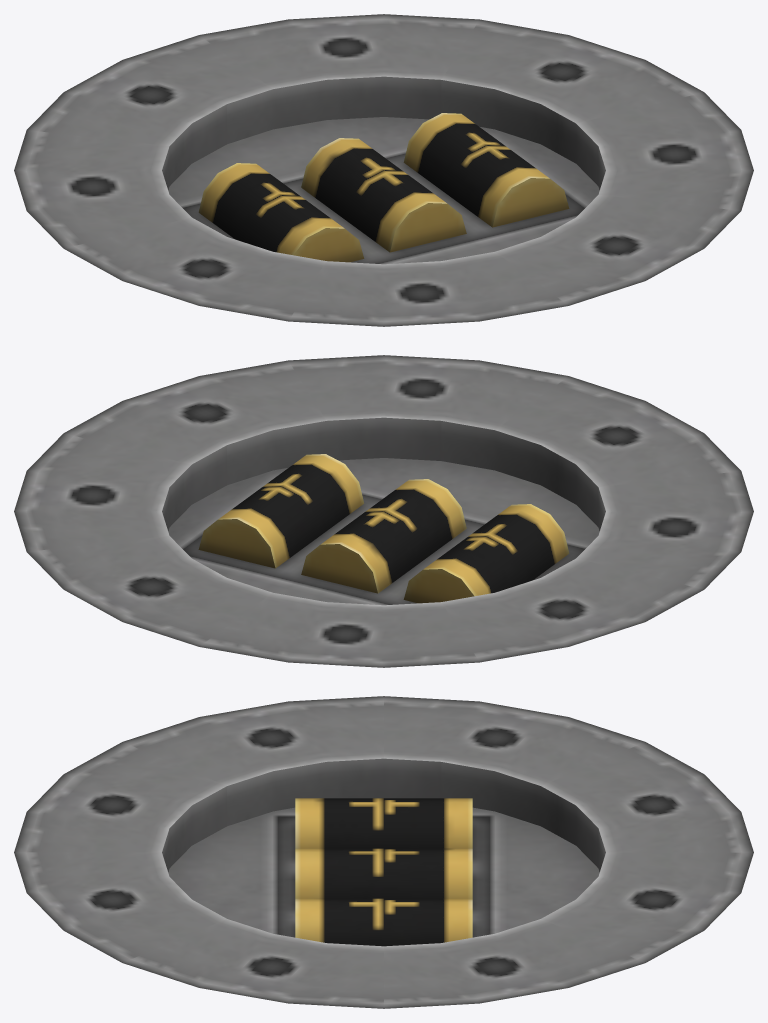
File: end_battery_s0.obj
3 renders of one model, top to bottom at view 1: azimuth 30°, elevation 25°; view 2: azimuth 150°, elevation 25°; view 3: azimuth 270°, elevation 25°, orthographic.
Parts seen in each view (by area): view 1: end1; view 2: end1; view 3: end1.
Part boxes in pixels (x1=…): end1: x1=14, y1=14, x2=753, y2=326; end1: x1=14, y1=355, x2=753, y2=667; end1: x1=14, y1=696, x2=753, y2=1008.
Bounding box in the file's own units: 0.625 × 0.0375 × 0.625.
1 material, 1 textured.
